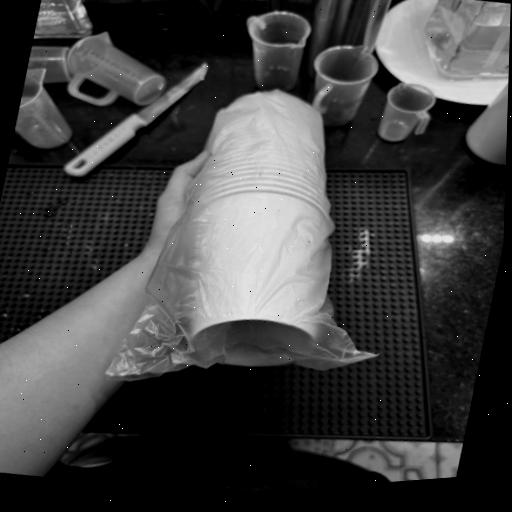Ly_giay: (106, 90, 375, 380)
